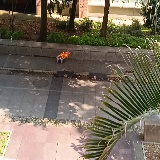fire: (59, 51, 69, 59)
